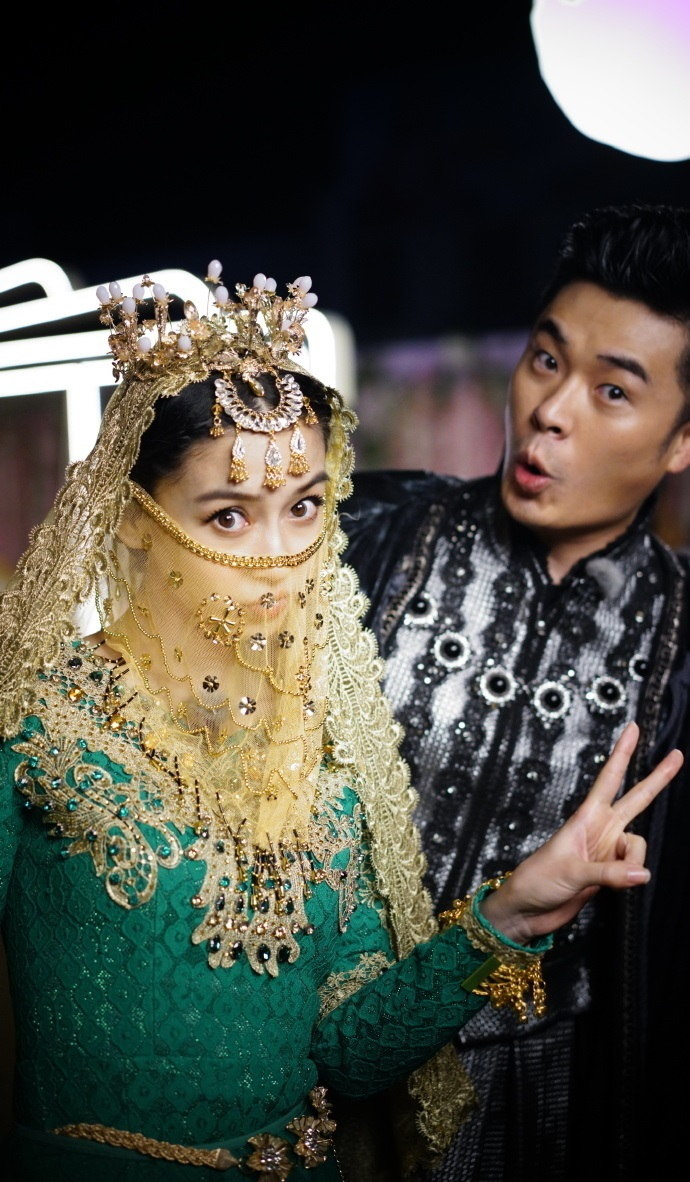face: (162, 382, 329, 649), (500, 279, 668, 533)
